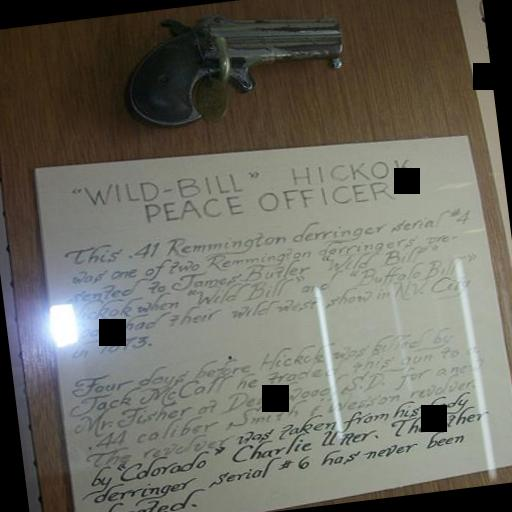Handgun: (113, 0, 349, 133)
